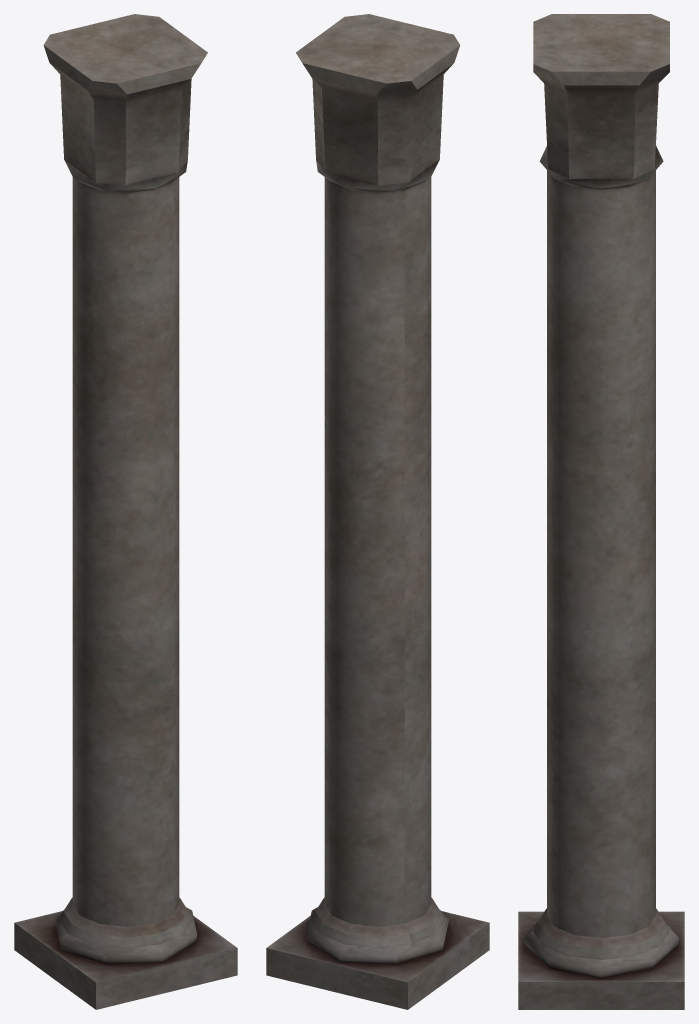
File: sb_obj_outdoor009_AncientTemple_pillar01A_col.fbx
3 renders of one model, left to right at view 1: azimuth 30°, elevation 25°; view 2: azimuth 150°, elevation 25°; view 3: azimuth 270°, elevation 25°, orthographic.
Parts seen in each view (by area): view 1: sb_obj_outdoor009_AncientTemple_pillar01A_col; view 2: sb_obj_outdoor009_AncientTemple_pillar01A_col; view 3: sb_obj_outdoor009_AncientTemple_pillar01A_col.
Part boxes in pixels (x1,y1,x2,y2): sb_obj_outdoor009_AncientTemple_pillar01A_col: (14, 14, 237, 1009); sb_obj_outdoor009_AncientTemple_pillar01A_col: (266, 14, 489, 1009); sb_obj_outdoor009_AncientTemple_pillar01A_col: (518, 14, 684, 1009).
Size of the model in its own units: 1.62 by 10 by 1.62.
